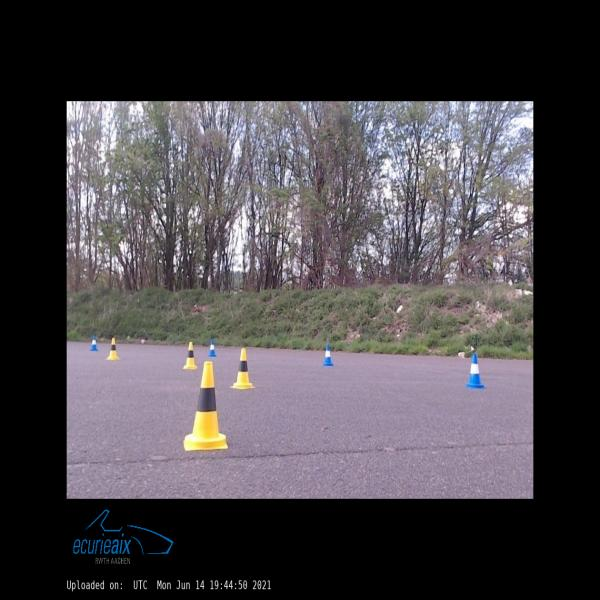blue_cone: (465, 353, 484, 389), (323, 343, 333, 366), (208, 338, 217, 357), (91, 334, 98, 350)
yellow_cone: (184, 361, 228, 450), (230, 349, 255, 389), (183, 342, 198, 369), (106, 338, 118, 359)
